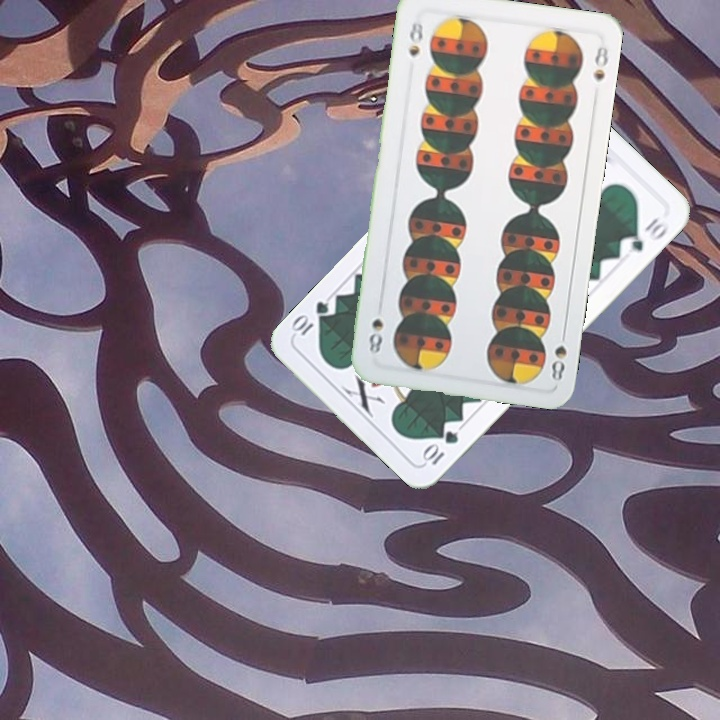G10: (419, 426, 462, 468)
S8: (547, 325, 569, 384), (404, 16, 426, 59)
